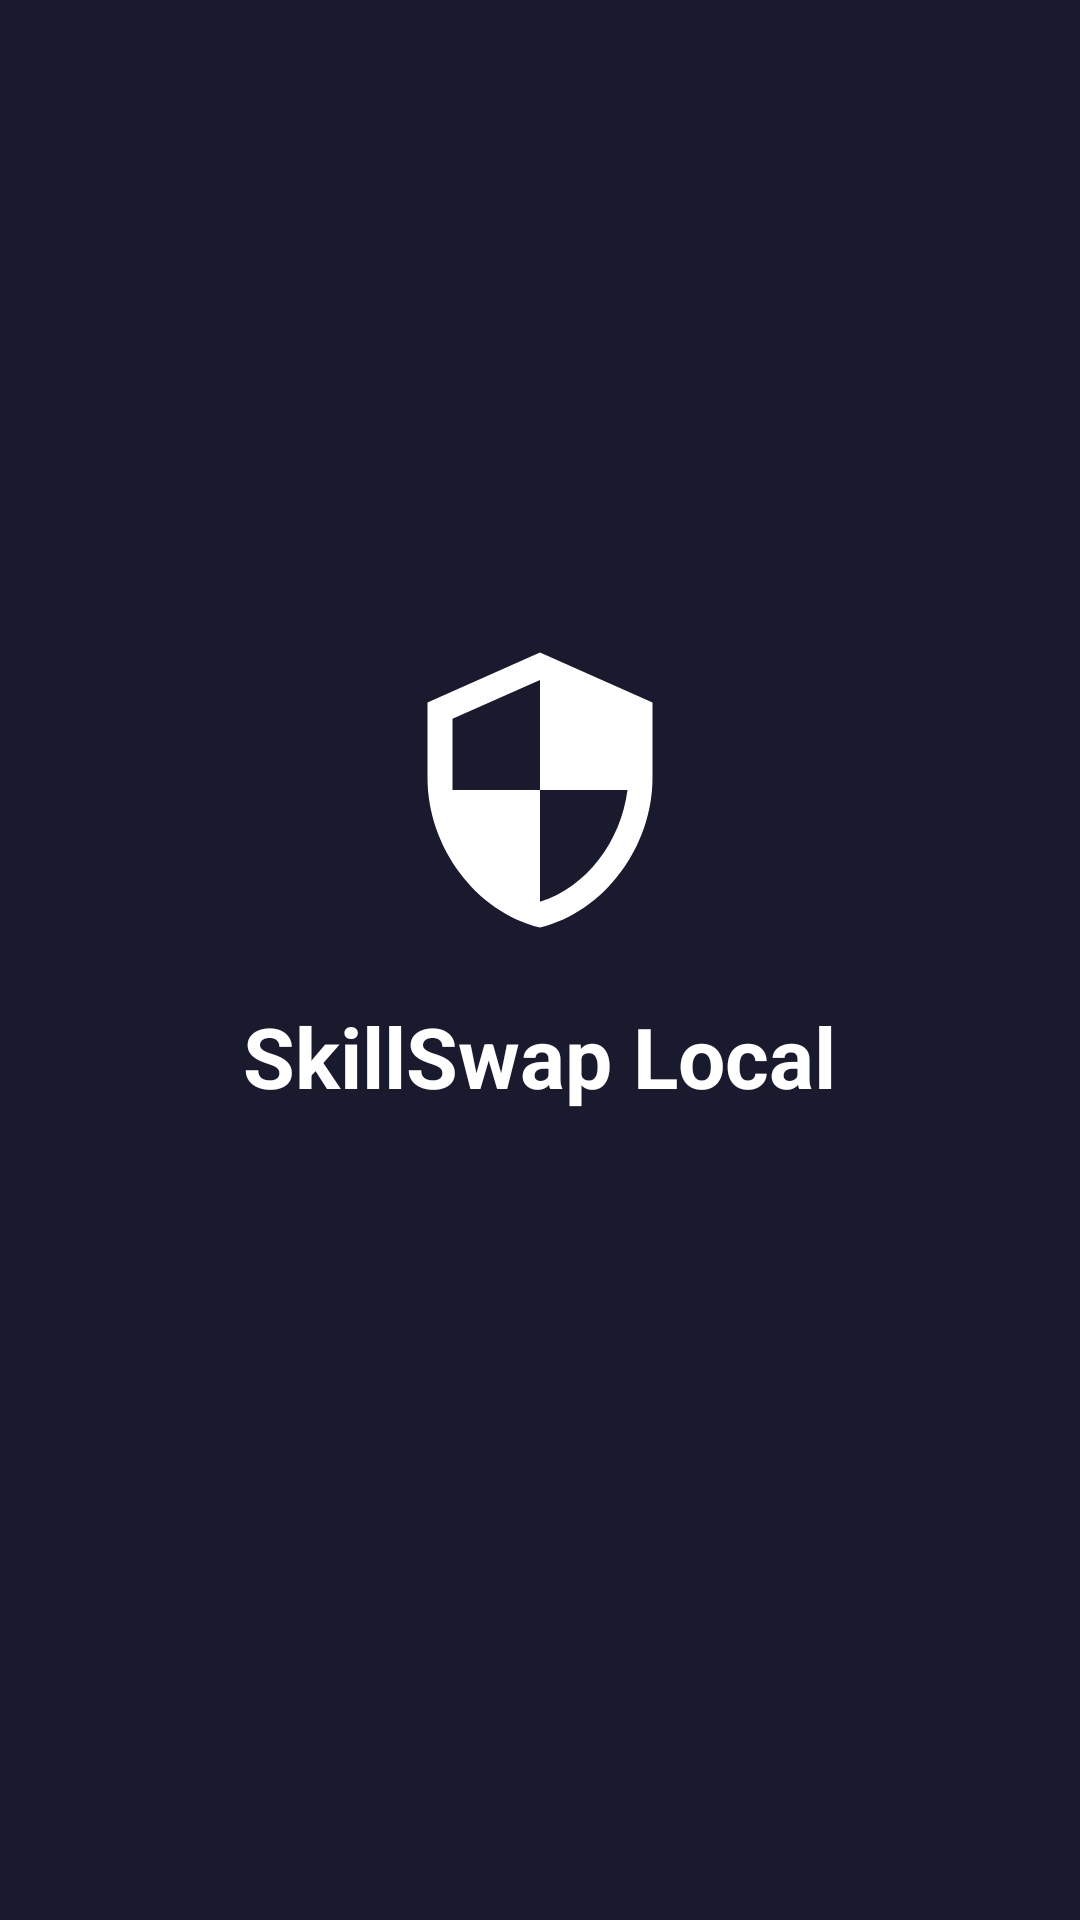

Icons on this 1080 × 1920 Android screen, each with the point to tap as (x=x, y=y):
legal shield: (x=540, y=790)
